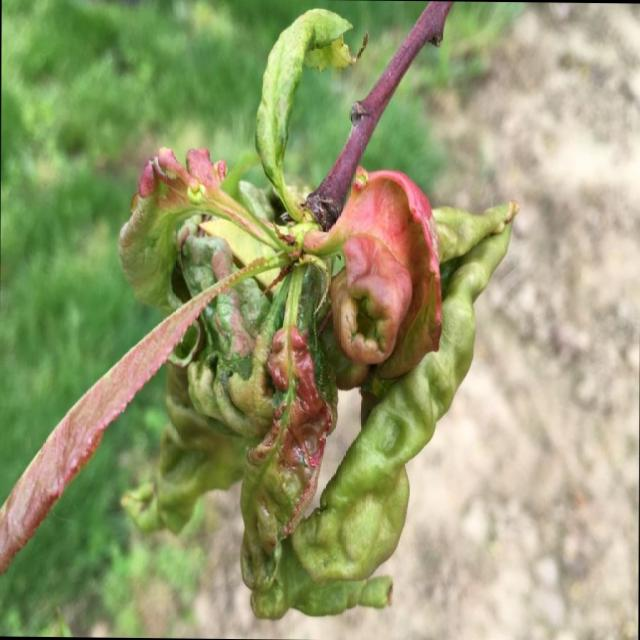peach_leaf_curl: (1, 5, 521, 625), (299, 165, 443, 381)
